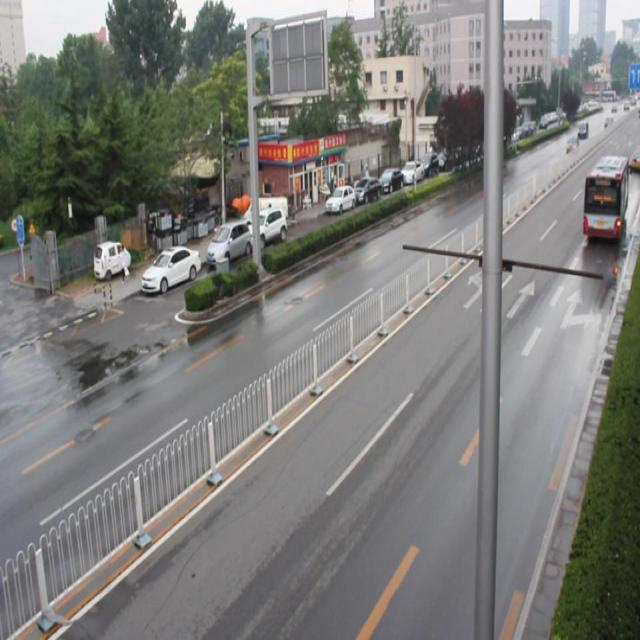van: (583, 154, 629, 234)
